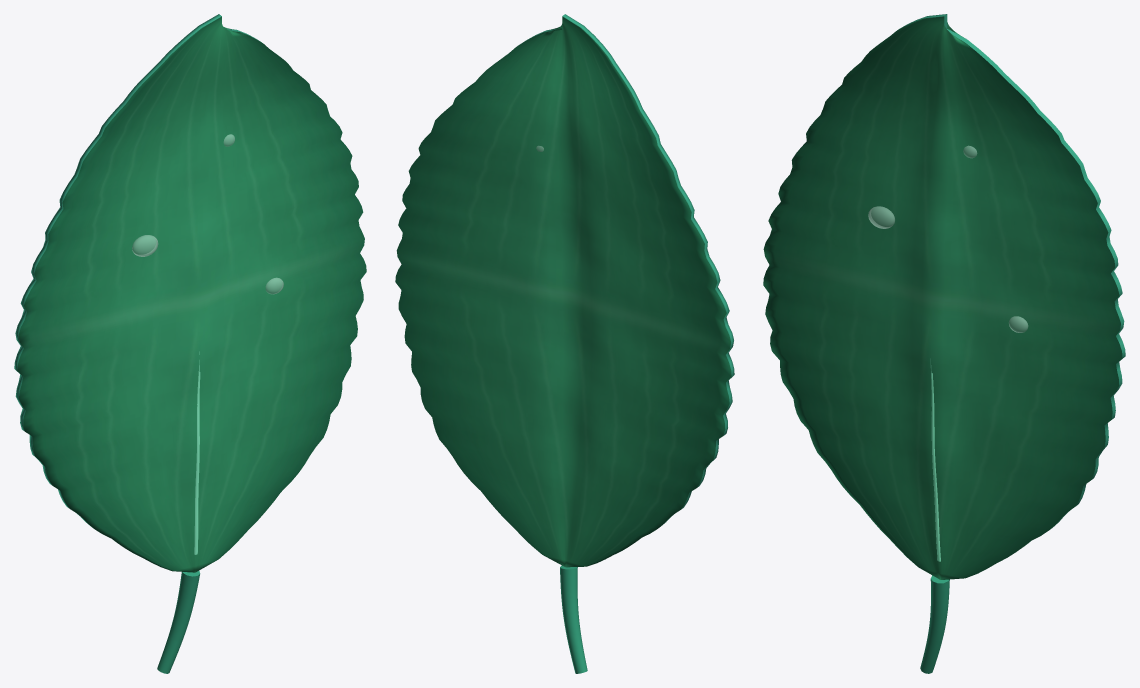
Rendered from mint-leaf-v1.glb.
3 renders of one model, left to right at view 1: azimuth 30°, elevation 25°; view 2: azimuth 150°, elevation 25°; view 3: azimuth 330°, elevation 25°, orthographic. The views are drawn at different scales.
Visible parts, largest first — view 1: MintLeafSurface, MintLeafStem, MintLeafVeins; view 2: MintLeafSurface, MintLeafStem; view 3: MintLeafSurface, MintLeafStem, MintLeafVeins.
Boxes of the visible parts, x1,y1,x2,y2 form: MintLeafSurface: [14, 14, 366, 572]; MintLeafStem: [157, 571, 200, 673]; MintLeafVeins: [194, 351, 200, 554]; MintLeafSurface: [395, 14, 734, 567]; MintLeafStem: [560, 565, 587, 673]; MintLeafSurface: [763, 14, 1125, 579]; MintLeafStem: [920, 575, 949, 673]; MintLeafVeins: [930, 358, 940, 561].
Bounding box in the file's own units: 2.21 × 4 × 0.268.
Materials: 6 (2 with a texture image).
